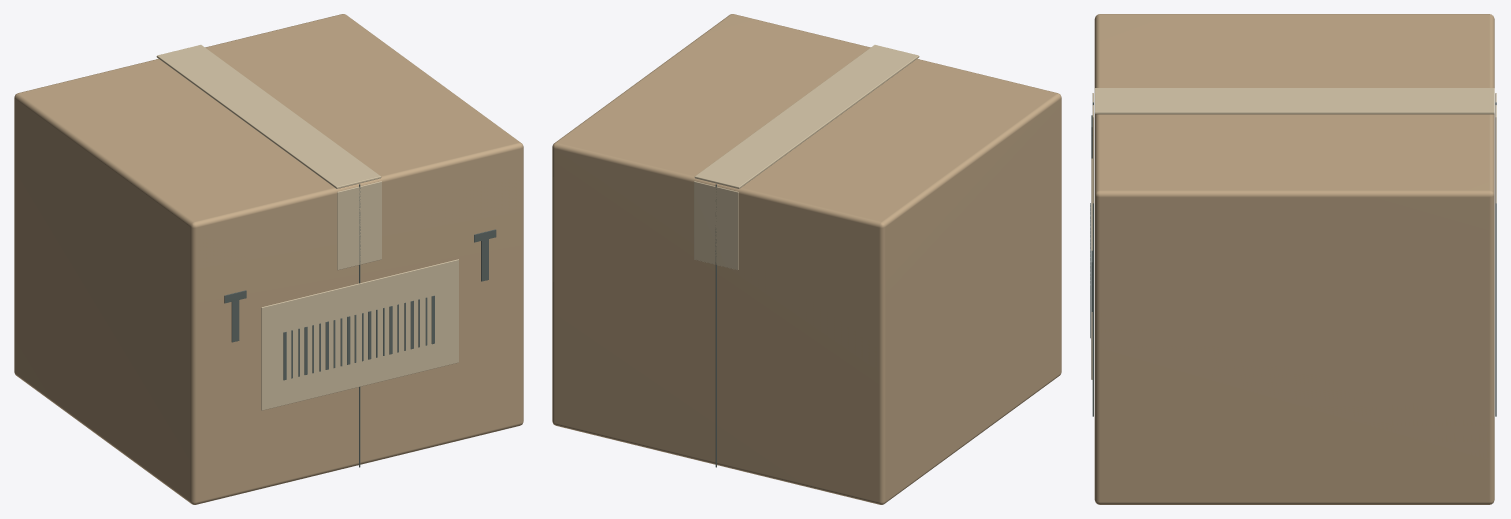
Rendered from Cartons.glb.
The picture shows the model from 3 angles, left to right: view 1: azimuth 30°, elevation 25°; view 2: azimuth 150°, elevation 25°; view 3: azimuth 270°, elevation 25°; orthographic projection. The views are drawn at different scales.
Visible parts, largest first — view 1: Carton, Label, Top tape, Tape folded over edge.001; view 2: Carton, Top tape, Tape folded over edge; view 3: Carton, Top tape.
Part boxes in pixels (x1,y1,x2,y2): Carton: [14, 14, 523, 504]; Label: [261, 259, 458, 410]; Top tape: [156, 45, 381, 188]; Tape folded over edge.001: [337, 181, 381, 270]; Carton: [552, 14, 1061, 504]; Top tape: [694, 45, 919, 188]; Tape folded over edge: [694, 181, 738, 270]; Carton: [1094, 14, 1494, 504]; Top tape: [1094, 88, 1494, 114].
Size of the model in its own units: 0.32 by 0.262 by 0.3047.
